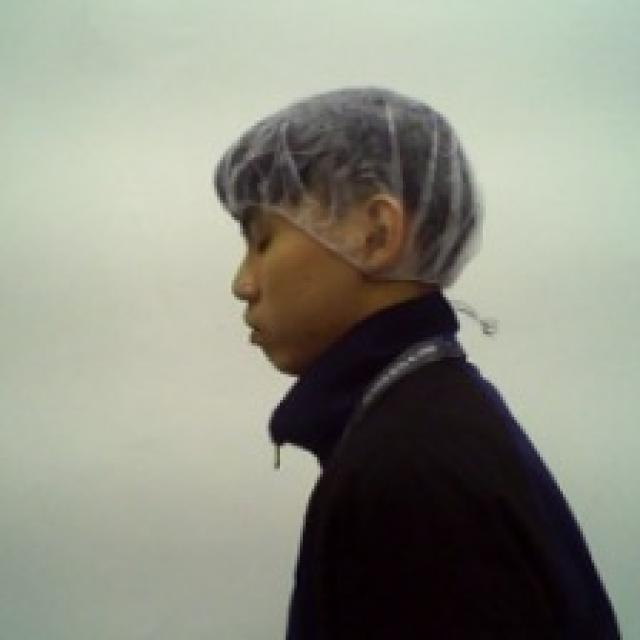gloves: (207, 77, 488, 292)
no_hairnet: (231, 196, 416, 381)
